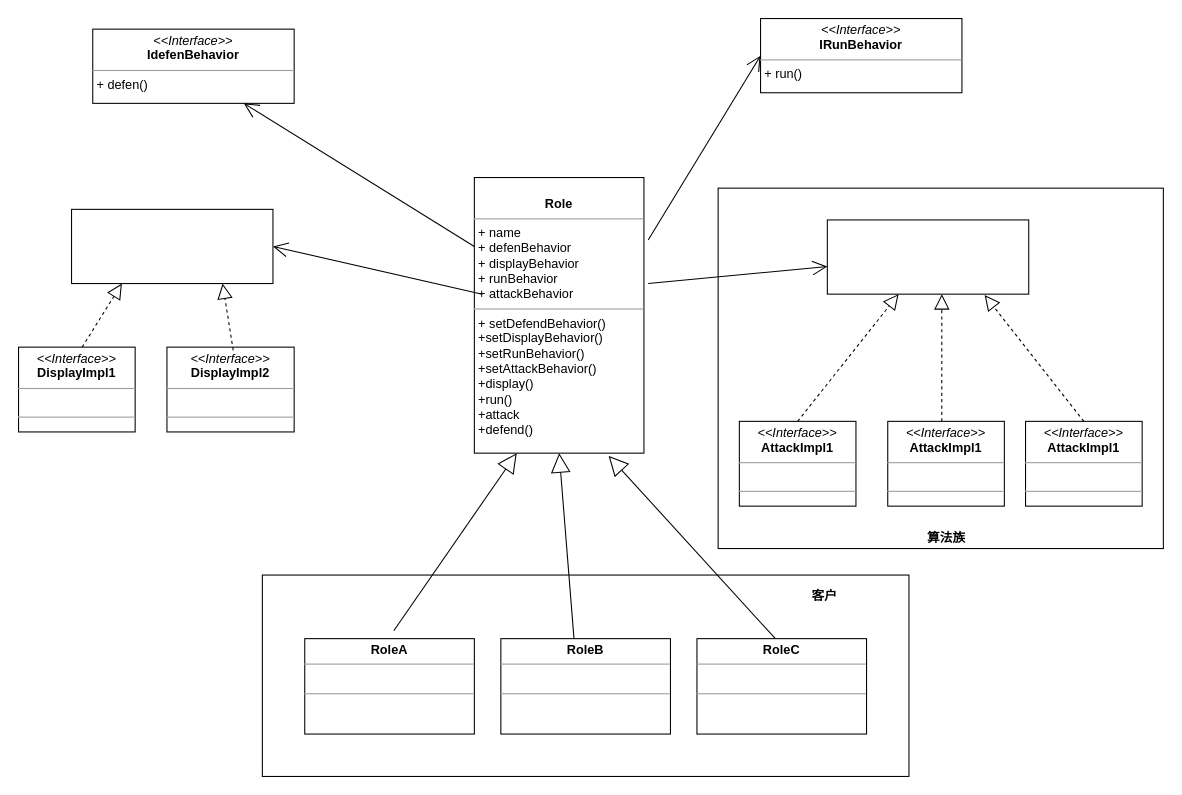
This 1182x795 diagram has some shape labels left out. Each missing label, with the centre of its shape:
"<<Interface>> IAttackBehavior + attack()" goes at point 927,256.
"<<Interface>> IDisplayBehavior + display()" goes at point 171,246.
